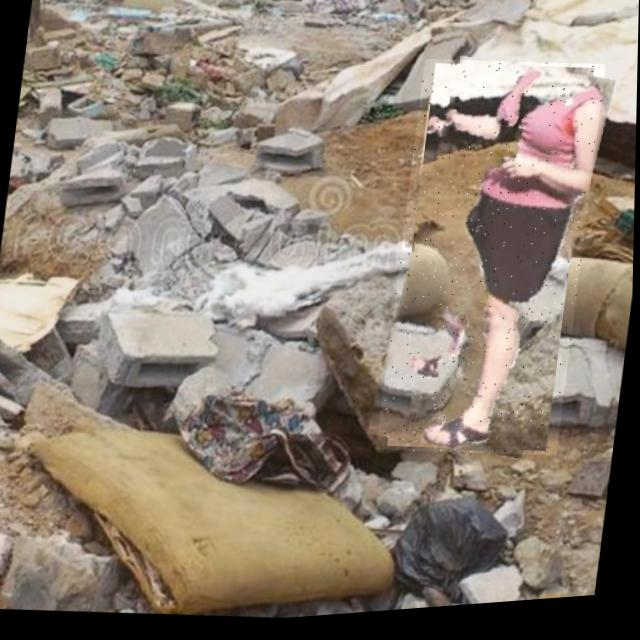Person in Rubble: (377, 55, 606, 475)
